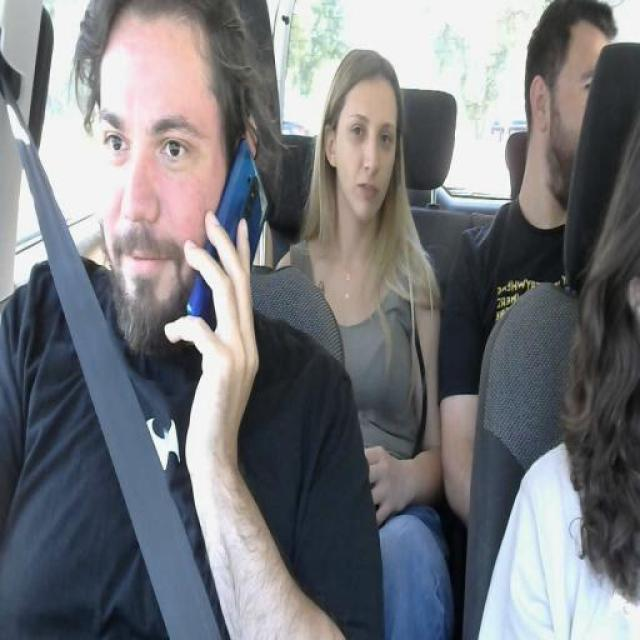phone: (186, 135, 272, 329)
